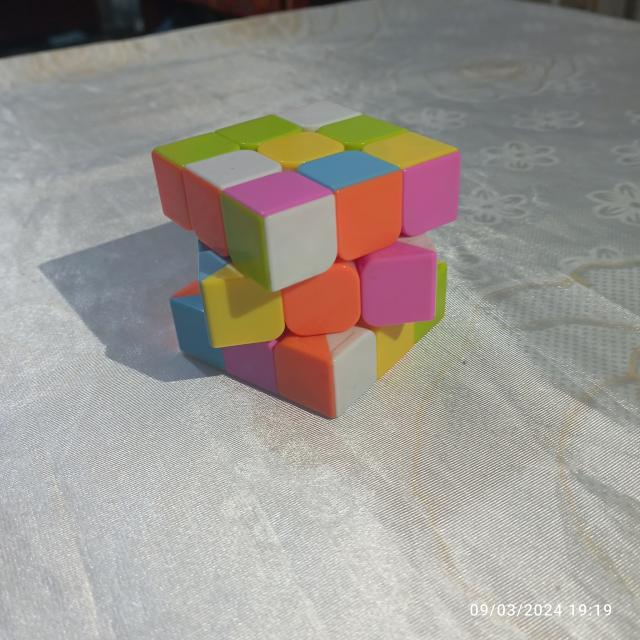Rub: (148, 88, 464, 422)
